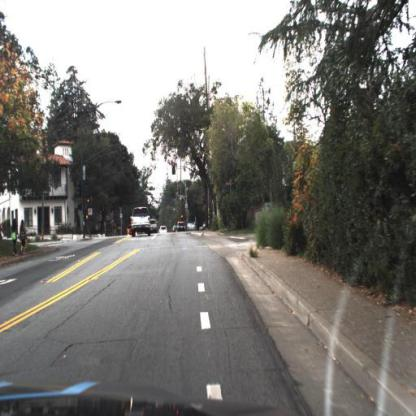car: (132, 207, 153, 238), (150, 219, 158, 235), (188, 222, 197, 233), (178, 221, 186, 232)
pedestrian: (12, 218, 20, 258), (21, 218, 29, 256)
trafficLight-Red: (85, 196, 93, 205), (173, 162, 177, 176), (87, 197, 91, 209)
